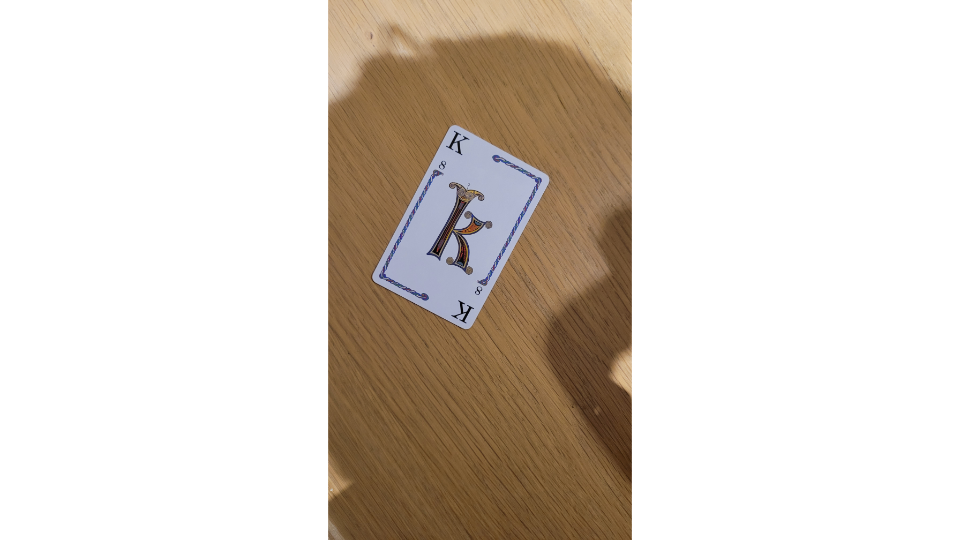K: (369, 121, 552, 331)
